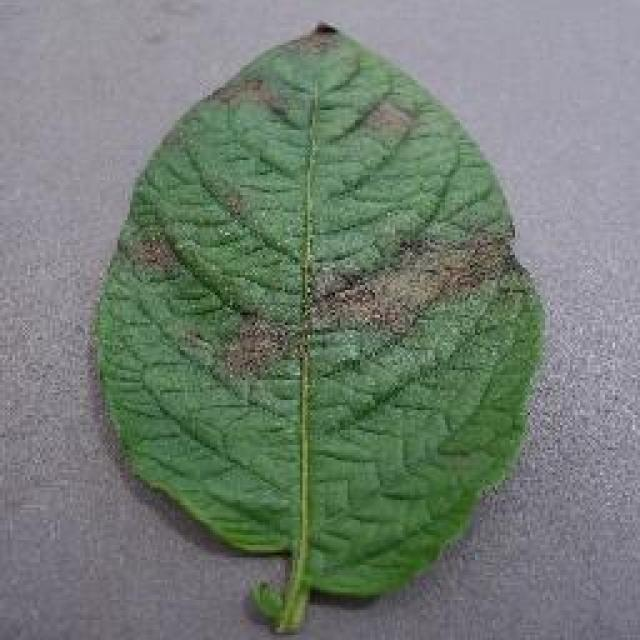late_blight: (90, 18, 550, 632)
